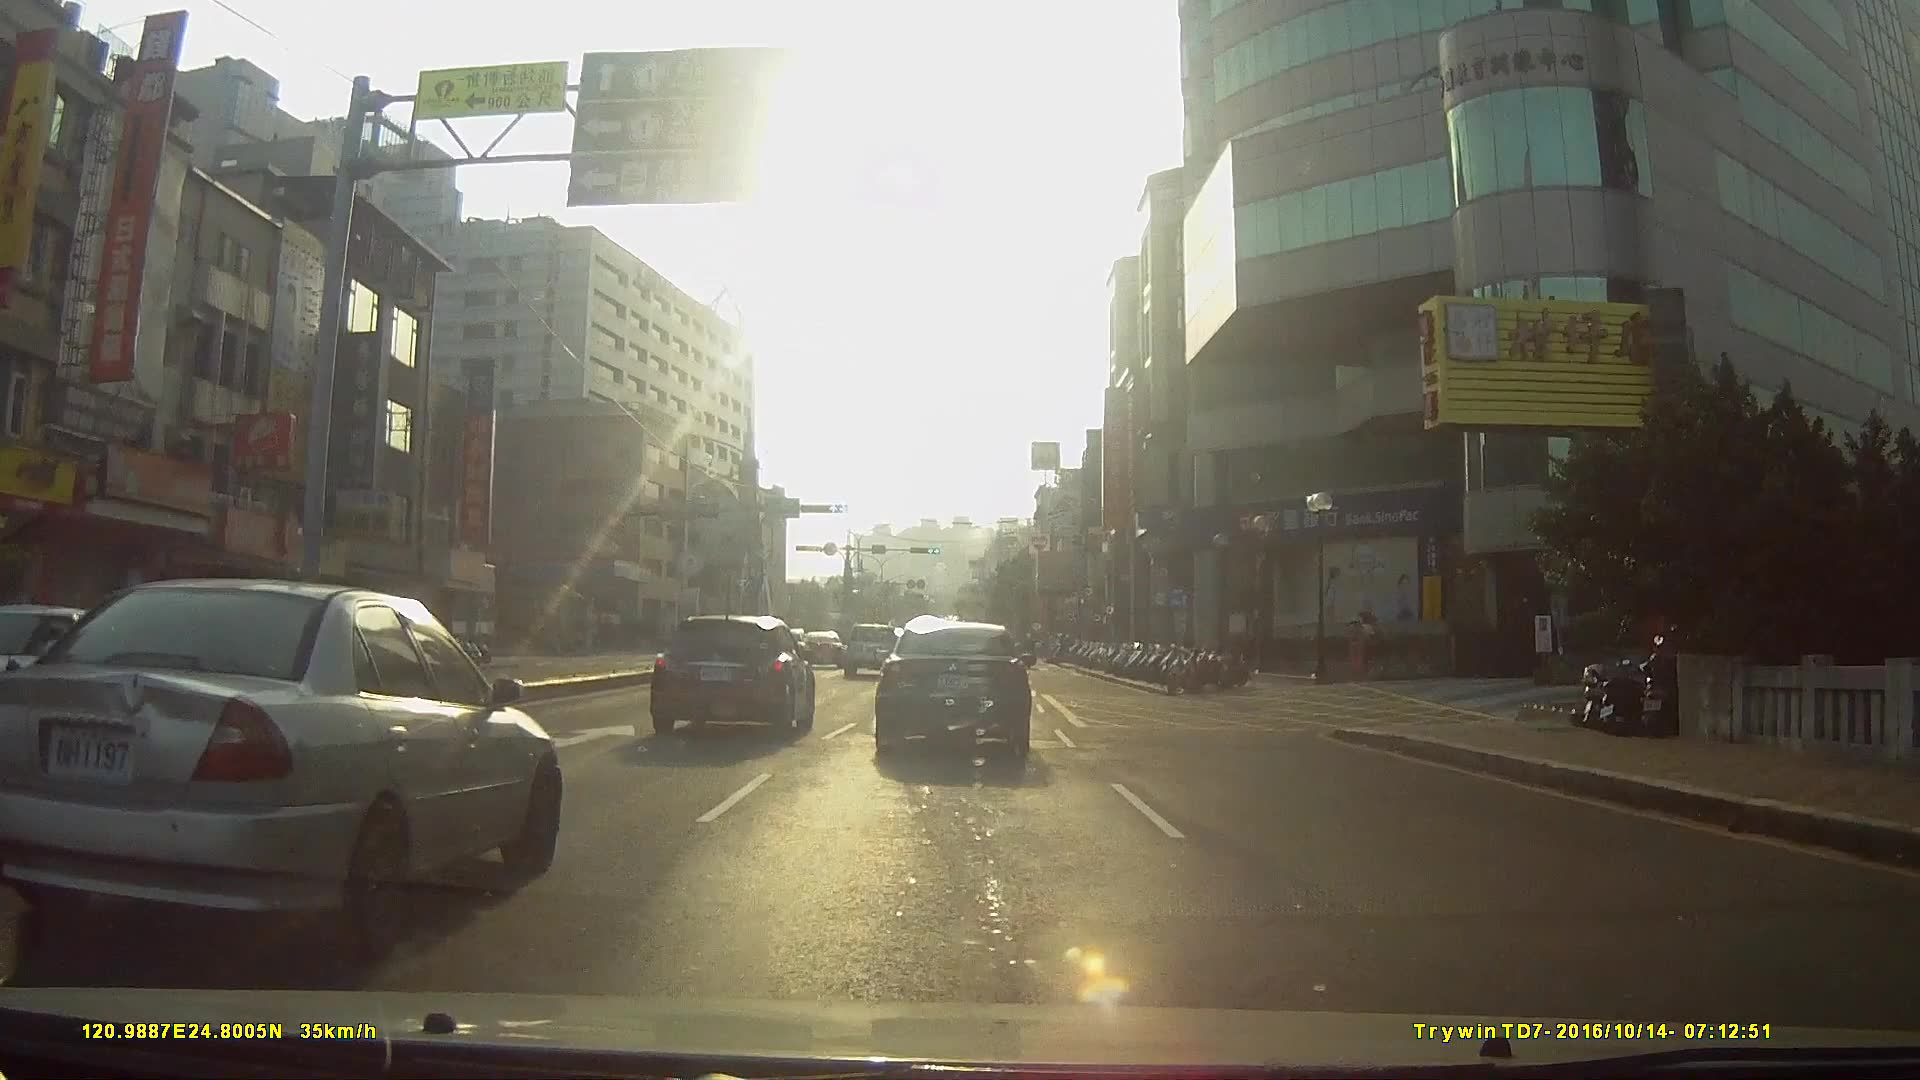pedestrian: (1340, 596, 1372, 681)
vehicle: (0, 570, 556, 959), (874, 610, 1034, 757), (647, 607, 815, 737), (839, 617, 900, 676), (796, 626, 846, 665)
